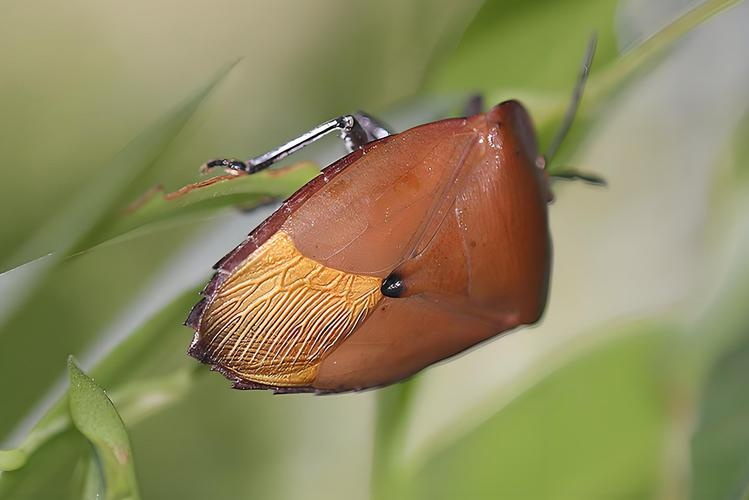Stink_Bug: (218, 103, 546, 366)
